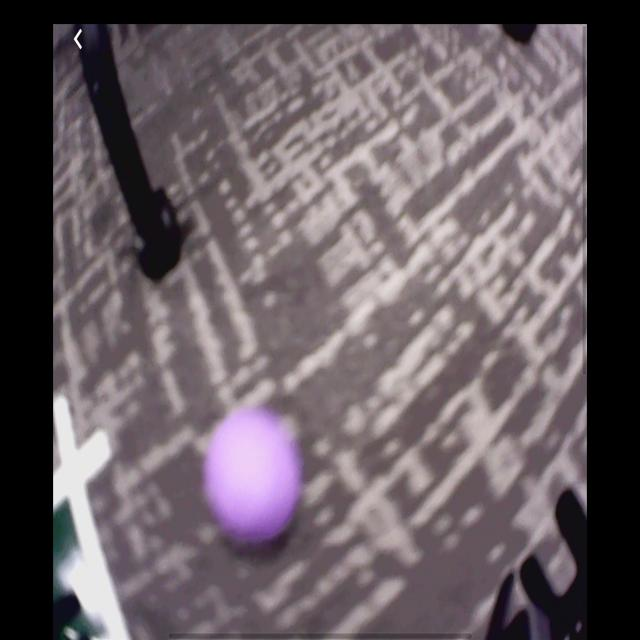ball: (205, 412, 301, 540)
